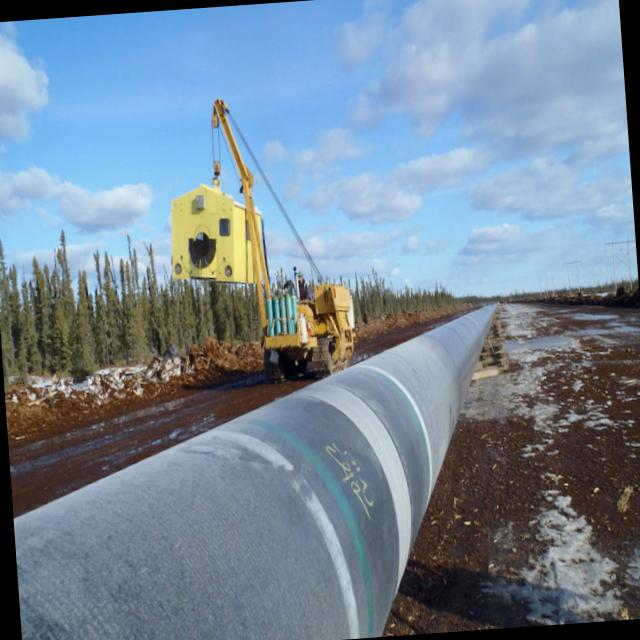gas: (13, 301, 498, 640)
